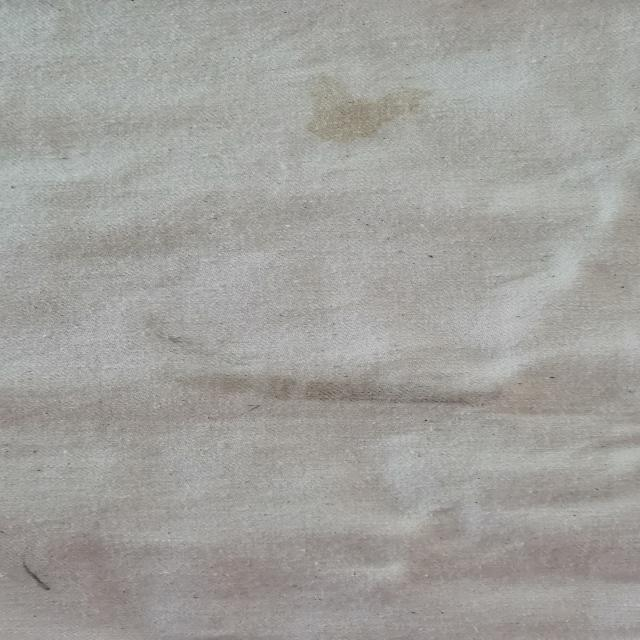taaaches: (147, 365, 509, 424), (284, 64, 438, 165), (126, 310, 208, 348), (14, 556, 65, 602)
